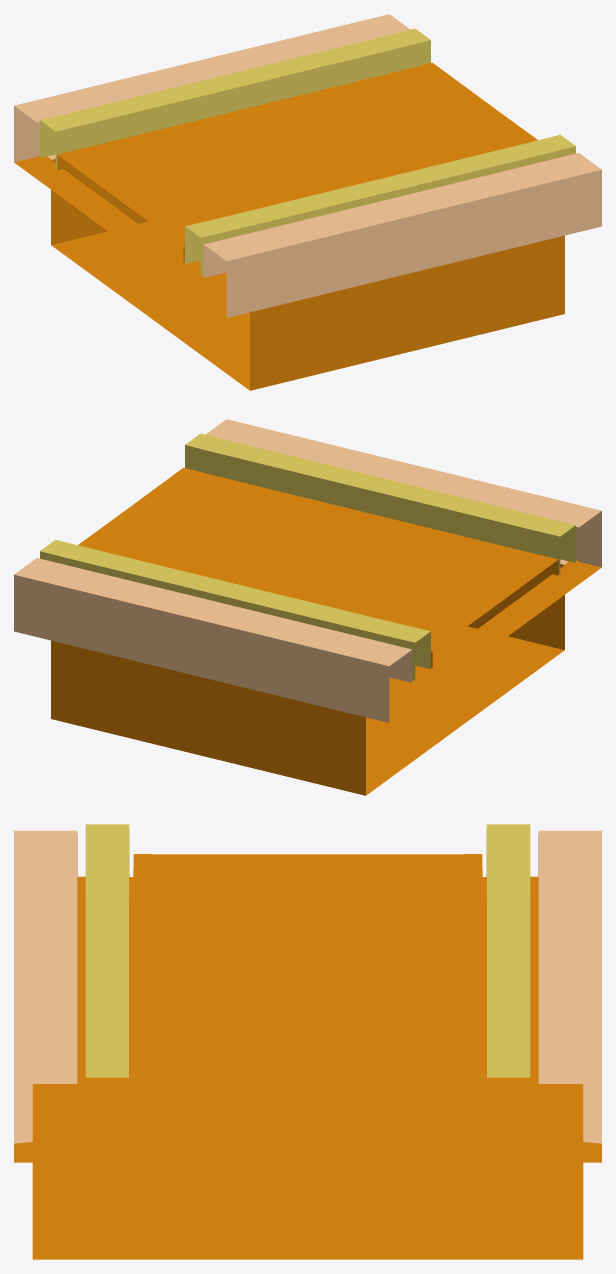
The model's file is coniveyor_duz.fbx.
3 renders of one model, top to bottom at view 1: azimuth 30°, elevation 25°; view 2: azimuth 150°, elevation 25°; view 3: azimuth 270°, elevation 25°, orthographic. The views are drawn at different scales.
Visible parts, largest first — view 1: Cube.003; view 2: Cube.003; view 3: Cube.003.
Boxes of the visible parts, x1=… form: Cube.003: x1=14, y1=14, x2=601, y2=390; Cube.003: x1=14, y1=419, x2=601, y2=795; Cube.003: x1=14, y1=824, x2=601, y2=1259.
Bounding box in the file's own units: 99.25 × 37.01 × 97.34.
